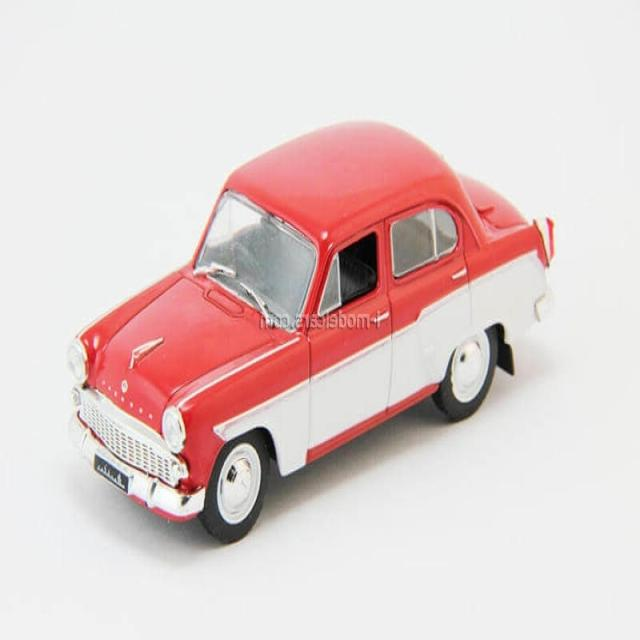Car: (67, 118, 556, 544)
